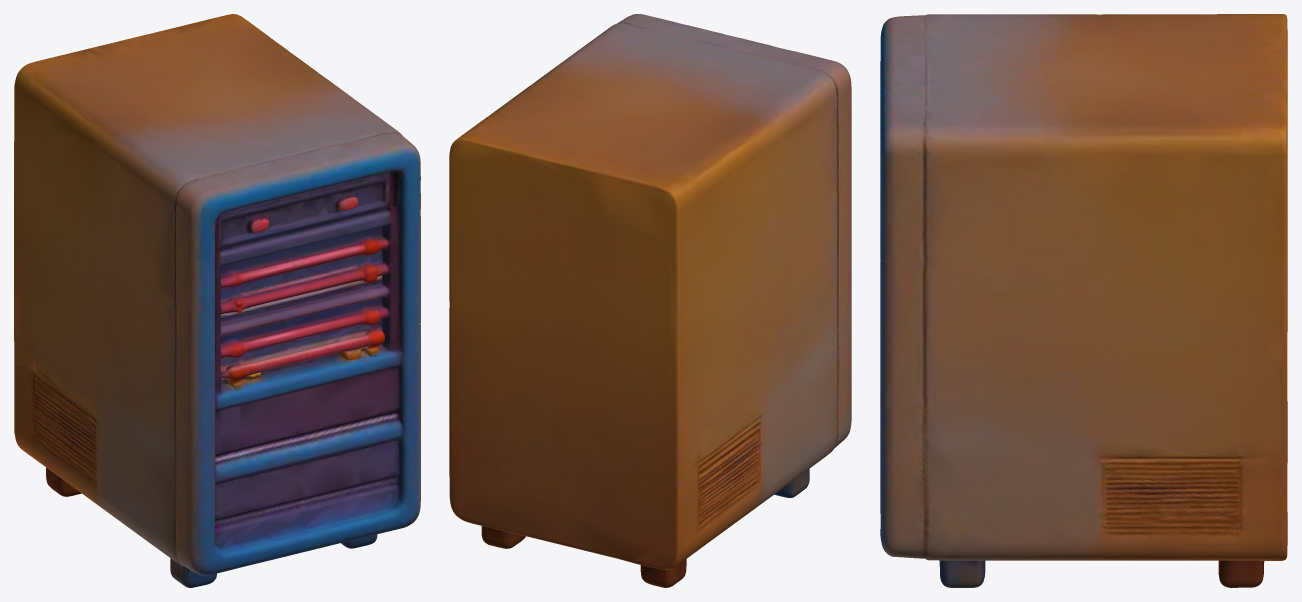
File: mainframe.glb
The picture shows the model from 3 angles, left to right: view 1: azimuth 30°, elevation 25°; view 2: azimuth 150°, elevation 25°; view 3: azimuth 270°, elevation 25°; orthographic projection. The views are drawn at different scales.
Parts seen in each view (by area): view 1: tripo_node_7fee5781-c143-4b48-b70a-836674f97b41; view 2: tripo_node_7fee5781-c143-4b48-b70a-836674f97b41; view 3: tripo_node_7fee5781-c143-4b48-b70a-836674f97b41.
Boxes of the visible parts, x1,y1,x2,y2 form: tripo_node_7fee5781-c143-4b48-b70a-836674f97b41: (14,14,420,587); tripo_node_7fee5781-c143-4b48-b70a-836674f97b41: (449,14,851,587); tripo_node_7fee5781-c143-4b48-b70a-836674f97b41: (880,14,1287,587).
Size of the model in its own units: 0.5462 by 0.9357 by 0.7372.
1 material, 1 textured.
